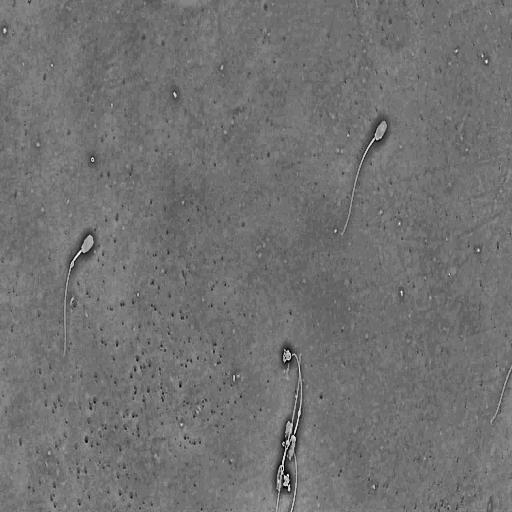dirt-particles: (280, 345, 293, 369), (282, 473, 292, 494)
distal-droplet: (297, 410, 302, 418), (70, 259, 74, 269)
loose-tail: (489, 362, 512, 426)
normal: (340, 119, 389, 238), (60, 232, 95, 359), (286, 351, 303, 460)
